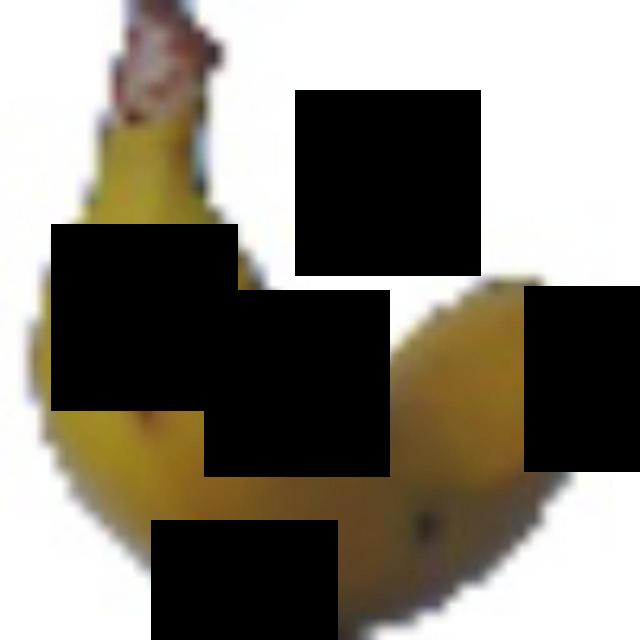banana: (32, 0, 614, 634)
